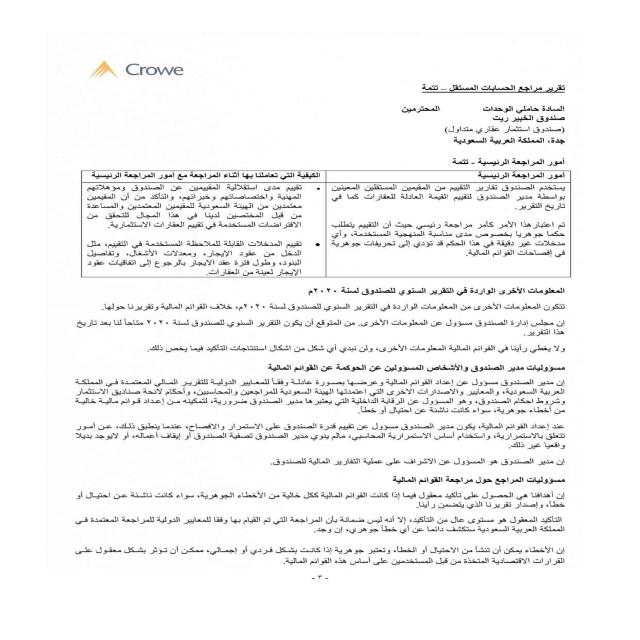auditor_report: (397, 79, 578, 101)
